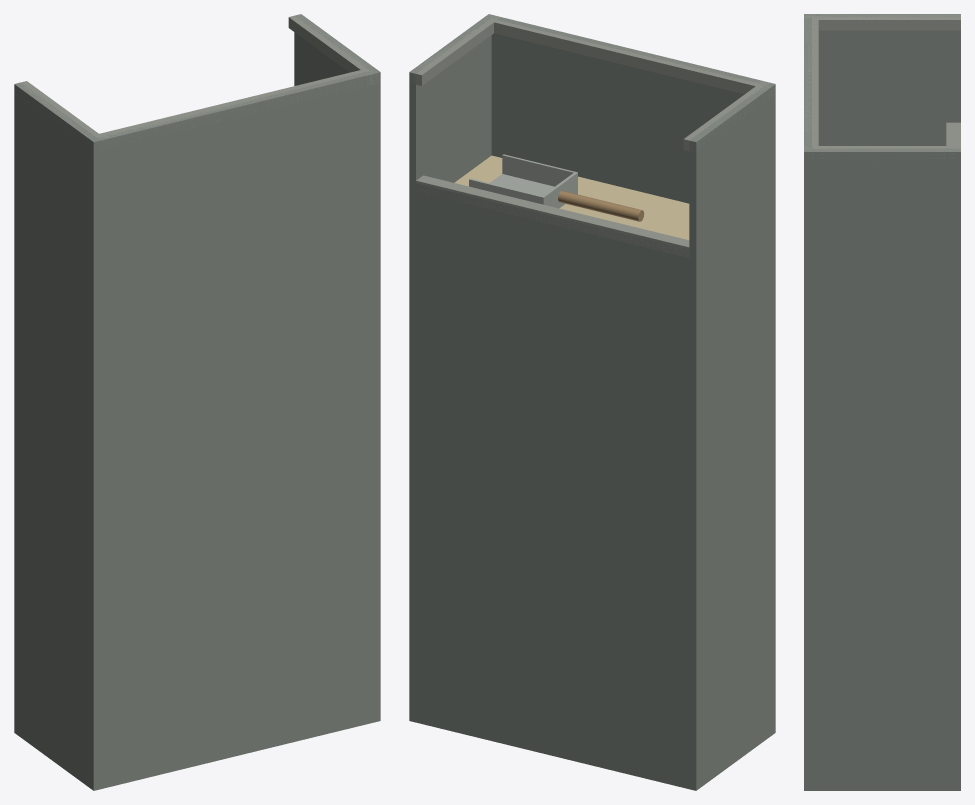
Rendered from parametric-narrow-capacity-sand-bin-crew.glb.
3 renders of one model, left to right at view 1: azimuth 30°, elevation 25°; view 2: azimuth 150°, elevation 25°; view 3: azimuth 270°, elevation 25°, orthographic.
Visible parts, largest first — view 1: parametric-narrow-capacity-sand-bin-crew:bin-structure; view 2: parametric-narrow-capacity-sand-bin-crew:bin-structure, parametric-narrow-capacity-sand-bin-crew:contained-sand, parametric-narrow-capacity-sand-bin-crew:sand-scoop; view 3: parametric-narrow-capacity-sand-bin-crew:bin-structure.
Part boxes in pixels (<box>): parametric-narrow-capacity-sand-bin-crew:bin-structure: <box>14,14,380,790</box>; parametric-narrow-capacity-sand-bin-crew:bin-structure: <box>409,14,775,790</box>; parametric-narrow-capacity-sand-bin-crew:contained-sand: <box>454,155,689,239</box>; parametric-narrow-capacity-sand-bin-crew:sand-scoop: <box>469,154,644,221</box>; parametric-narrow-capacity-sand-bin-crew:bin-structure: <box>804,14,960,790</box>.
Size of the model in its own units: 0.5 by 1.08 by 0.24.
